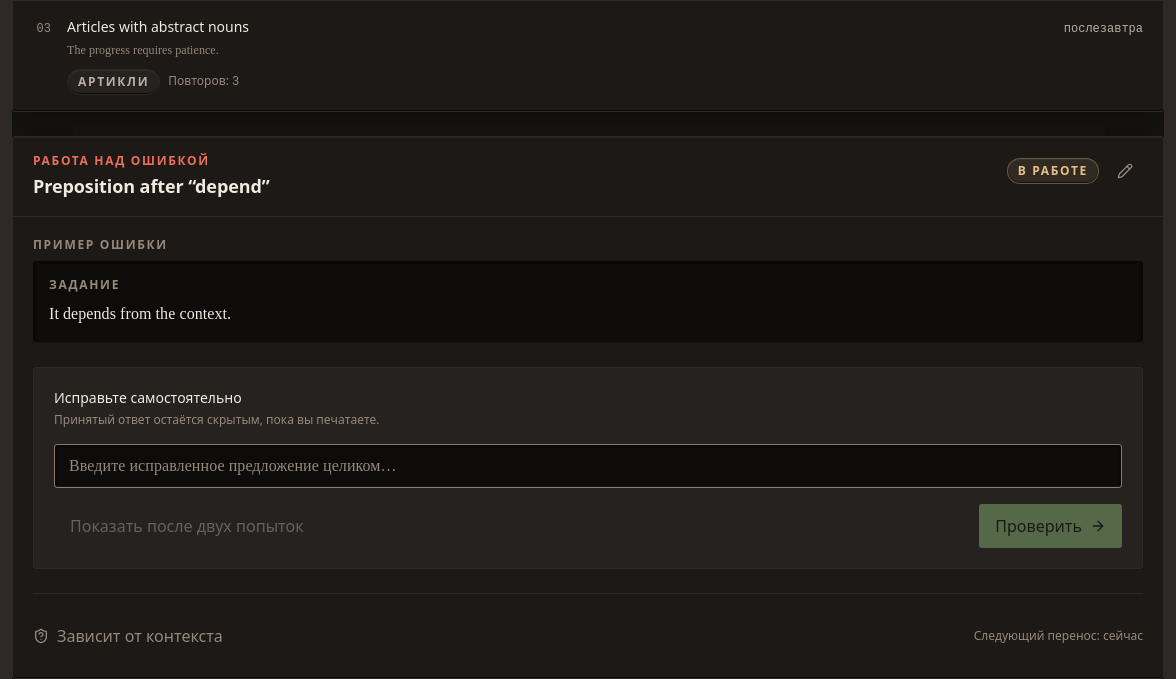
Test case: ErrorLabPage localization and due gate › records a due repair and reports the result in Russian
(page scrolled)
Type "It depends on the context." into the field named "Ваш исправленный вариант" at x=588, y=466, box 54,444 -> 1122,488
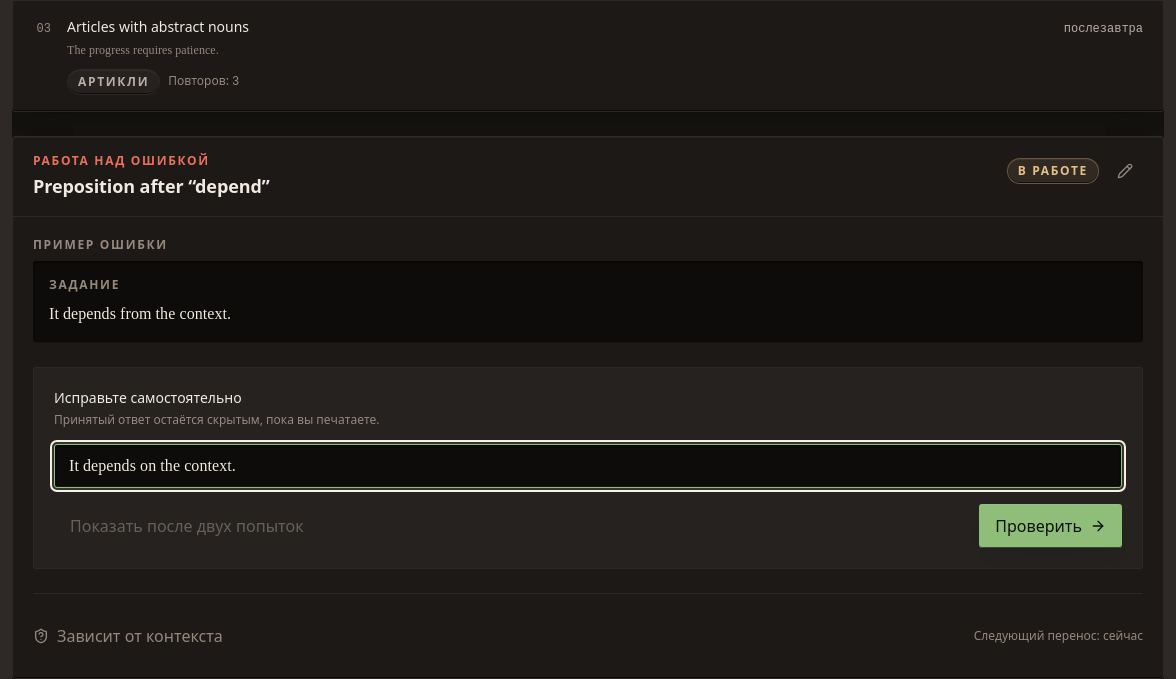
Click the button "Проверить" at x=1051, y=526, box 979,504 -> 1122,548
(page scrolled)
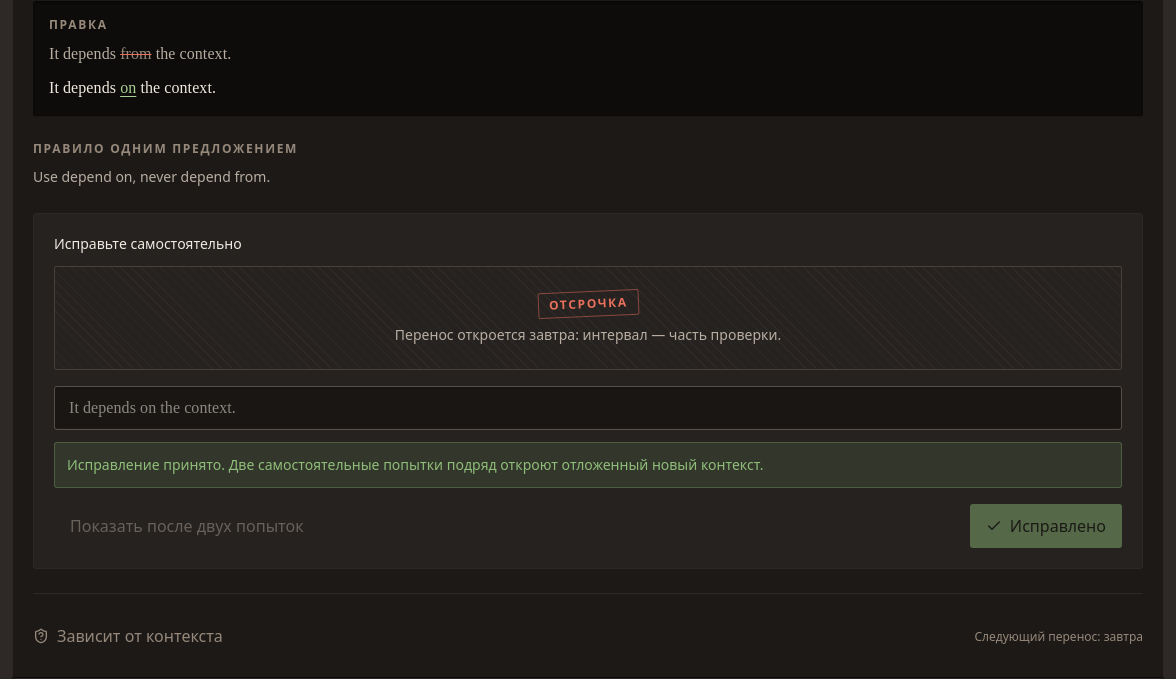
Result: the message shows "Исправление принято." at 67,455 -> 763,474
